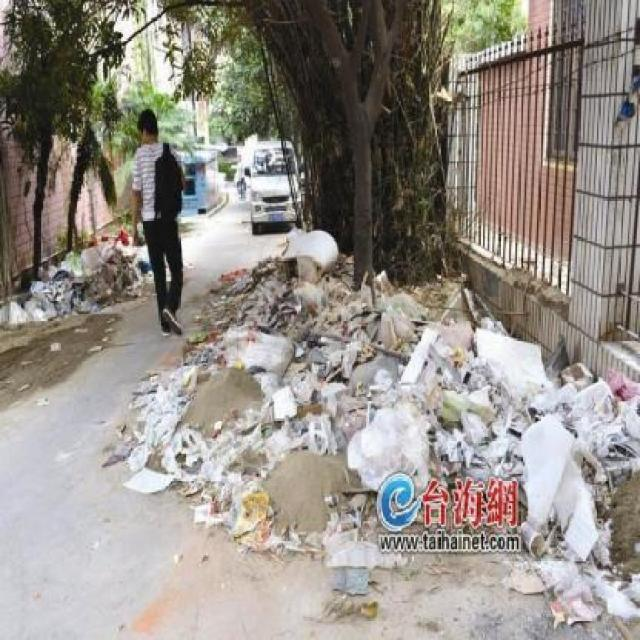garbage: (381, 297, 636, 470), (237, 246, 370, 428), (525, 479, 635, 633), (142, 357, 236, 506), (5, 269, 134, 318), (317, 515, 376, 612), (62, 242, 134, 262)
